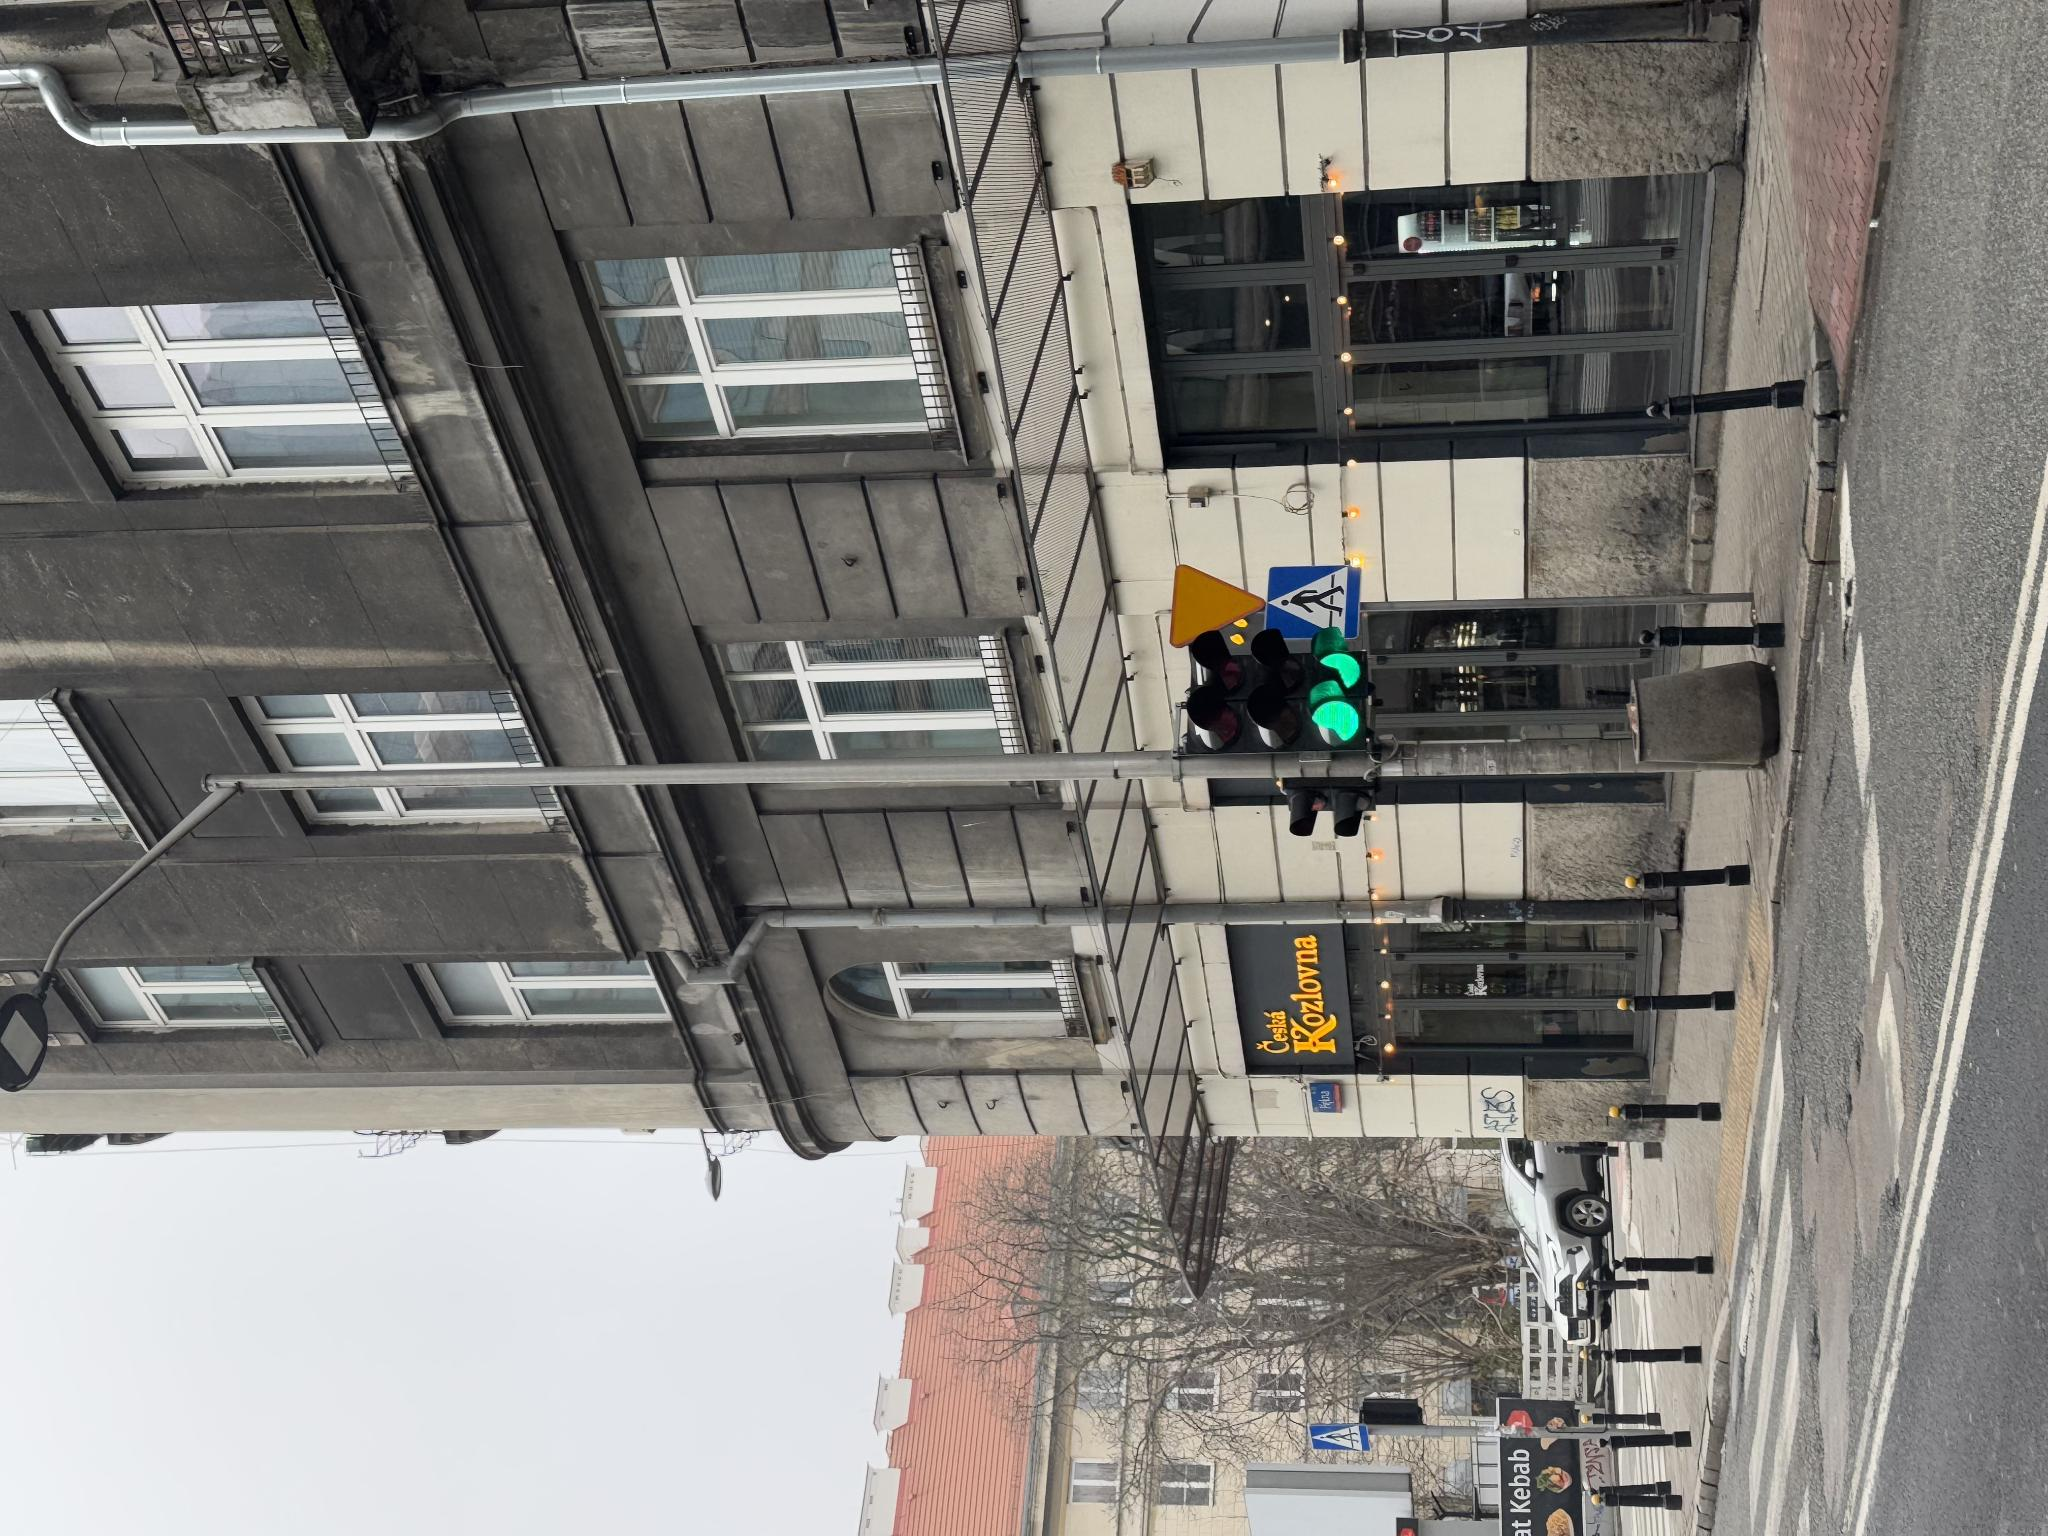information: (897, 1265, 971, 1362), (84, 1309, 113, 1370)
warning: (889, 1170, 972, 1267)
